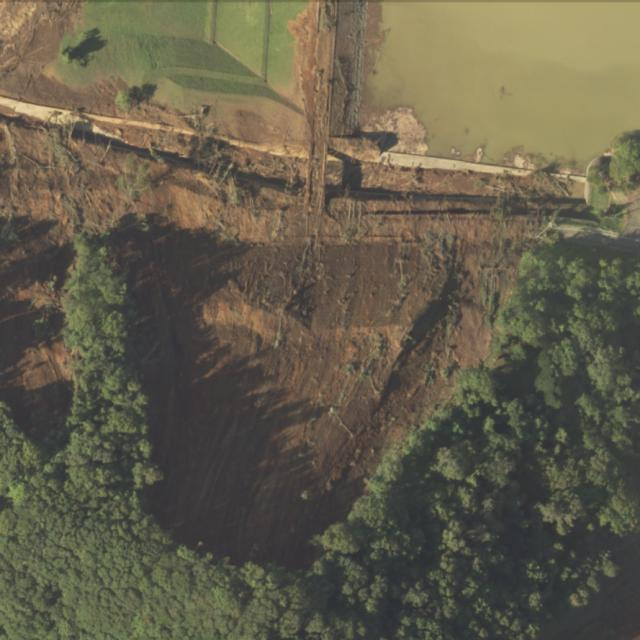landslide: (0, 115, 585, 569)
